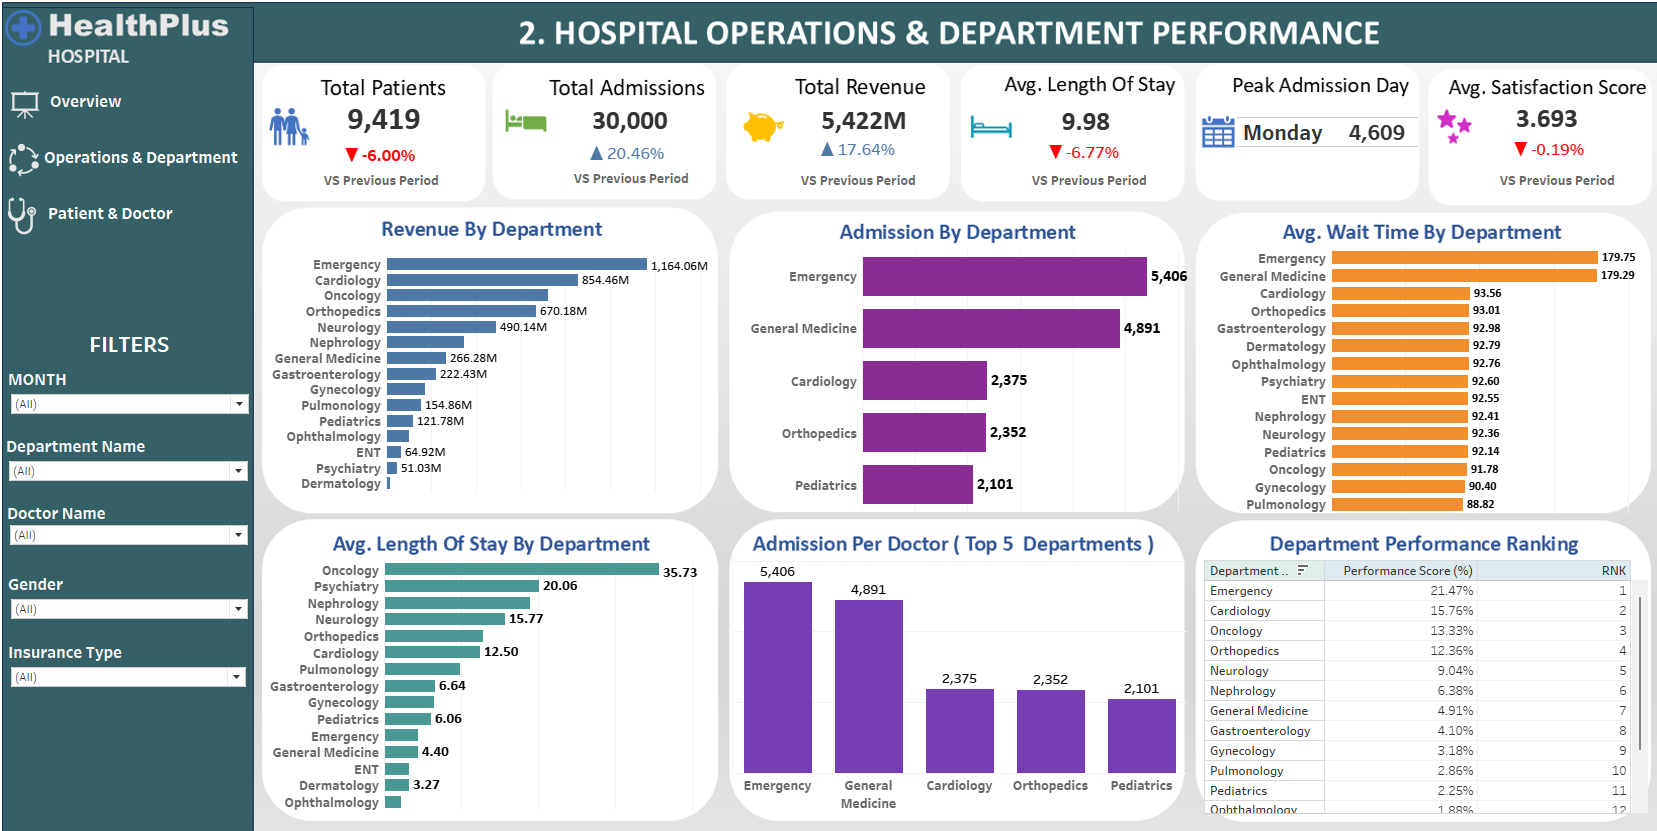

What the dashboard file says about the page in this screenshot:
{"tool":"tableau","page":{"name":"Operations & Department","canvas":[1709,856],"ordinal":1},"visuals":[{"type":"image","param":"Image/Presentation2.png","box":[8,8,1693,840]},{"type":"dashboard-object","box":[10,87,172,54]},{"type":"image","param":"Image/Picture1.svg","box":[16,100,38,36]},{"type":"worksheet","title":"Total Patients","mark":"Automatic","box":[329,109,129,46]},{"type":"worksheet","title":"Total Revenue","mark":"Automatic","box":[802,110,143,46]},{"type":"worksheet","title":"Avg Satisfaction Score","mark":"Automatic","box":[1467,111,180,74]},{"type":"worksheet","title":"Total Admissions","mark":"Automatic","box":[564,112,152,42]},{"type":"worksheet","title":"Avg Of Stay Days","mark":"Automatic","box":[1024,113,144,42]},{"type":"worksheet","title":"Peak Admission Day","mark":"Automatic","rows":["Calculation_416864450077765632"],"box":[1247,130,181,34]},{"type":"worksheet","title":"Avg Satisfaction Score Grwot","mark":"Automatic","box":[1483,136,152,52]},{"type":"worksheet","title":"Total Admission Growth","mark":"Automatic","box":[562,137,149,58]},{"type":"worksheet","title":"Revenue Growth","mark":"Automatic","box":[801,141,130,41]},{"type":"dashboard-object","box":[34,142,234,56]},{"type":"worksheet","title":"Patients Growth","mark":"Automatic","box":[333,147,113,41]},{"type":"worksheet","title":"Avg Of Stay Growth","mark":"Automatic","box":[1035,147,117,36]},{"type":"image","param":"Image/Picture2.svg","box":[11,148,44,50]},{"type":"text","box":[581,176,121,30]},{"type":"text","box":[331,178,121,30]},{"type":"text","box":[808,178,121,30]},{"type":"text","box":[1039,178,121,30]},{"type":"text","box":[1507,178,121,30]},{"type":"dashboard-object","box":[17,202,206,49]},{"type":"image","param":"Image/Picture3.svg","box":[12,209,40,41]},{"type":"worksheet","title":"Avg Wait Time By Dept","mark":"Automatic","rows":["Department_Name"],"cols":["Wait_Time_Minutes"],"box":[1221,262,442,264]},{"type":"worksheet","title":"Admission By Department","mark":"Automatic","rows":["Department_Name"],"cols":["Admission_ID"],"box":[752,263,464,261]},{"type":"worksheet","title":"Revenue By department","mark":"Automatic","rows":["Department_Name"],"cols":["Revenue"],"box":[276,269,460,235]},{"type":"text","box":[12,342,255,30]},{"type":"filter","title":"Total Patients","param":"[federated.0m1gyx91rqx2dw12bt20d0494kdl].[mn:Admission_Date:ok]","box":[18,381,244,51]},{"type":"filter","title":"Admission By Department","param":"[federated.0m1gyx91rqx2dw12bt20d0494kdl].[none:Department_Name:nk]","box":[16,448,245,52]},{"type":"filter","title":"Total Patients","param":"[federated.0m1gyx91rqx2dw12bt20d0494kdl].[none:Doctor_Name:nk]","box":[17,515,244,43]},{"type":"worksheet","title":"Admission Per Doctor","mark":"Automatic","rows":["Calculation_1036109399196372992"],"cols":["Department_Name"],"box":[742,567,455,259]},{"type":"worksheet","title":"Department Performance Ranking","mark":"Automatic","rows":["Department_Name"],"box":[1214,573,456,254]},{"type":"worksheet","title":"Avg Length Os Stay By Dept","mark":"Automatic","rows":["Department_Name"],"cols":["Length_of_Stay_Days"],"box":[274,574,452,249]},{"type":"filter","title":"Total Patients","param":"[federated.0m1gyx91rqx2dw12bt20d0494kdl].[none:Gender:nk]","box":[18,586,243,52]},{"type":"filter","title":"Total Patients","param":"[federated.0m1gyx91rqx2dw12bt20d0494kdl].[none:Insurance_Type:nk]","box":[18,654,241,55]}]}

Visuals, with their boxes in screenshot pixels (x1, y1, x2, y2), scaled from the page's 1709x856 canvas onto the 1657x831 screenshot:
image: x1=8 y1=8 x2=1649 y2=823
dashboard-object: x1=10 y1=84 x2=176 y2=137
image: x1=16 y1=97 x2=52 y2=132
"Total Patients" worksheet: x1=319 y1=106 x2=444 y2=150
"Total Revenue" worksheet: x1=778 y1=107 x2=916 y2=151
"Avg Satisfaction Score" worksheet: x1=1422 y1=108 x2=1597 y2=180
"Total Admissions" worksheet: x1=547 y1=109 x2=694 y2=150
"Avg Of Stay Days" worksheet: x1=993 y1=110 x2=1132 y2=150
"Peak Admission Day" worksheet: x1=1209 y1=126 x2=1385 y2=159
"Avg Satisfaction Score Grwot" worksheet: x1=1438 y1=132 x2=1585 y2=183
"Total Admission Growth" worksheet: x1=545 y1=133 x2=689 y2=189
"Revenue Growth" worksheet: x1=777 y1=137 x2=903 y2=177
dashboard-object: x1=33 y1=138 x2=260 y2=192
"Patients Growth" worksheet: x1=323 y1=143 x2=432 y2=183
"Avg Of Stay Growth" worksheet: x1=1004 y1=143 x2=1117 y2=178
image: x1=11 y1=144 x2=53 y2=192
text: x1=563 y1=171 x2=681 y2=200
text: x1=321 y1=173 x2=438 y2=202
text: x1=783 y1=173 x2=901 y2=202
text: x1=1007 y1=173 x2=1125 y2=202
text: x1=1461 y1=173 x2=1578 y2=202
dashboard-object: x1=16 y1=196 x2=216 y2=244
image: x1=12 y1=203 x2=50 y2=243
"Avg Wait Time By Dept" worksheet: x1=1184 y1=254 x2=1612 y2=511
"Admission By Department" worksheet: x1=729 y1=255 x2=1179 y2=509
"Revenue By department" worksheet: x1=268 y1=261 x2=714 y2=489
text: x1=12 y1=332 x2=259 y2=361
"Total Patients" filter: x1=17 y1=370 x2=254 y2=419
"Admission By Department" filter: x1=16 y1=435 x2=253 y2=485
"Total Patients" filter: x1=16 y1=500 x2=253 y2=542
"Admission Per Doctor" worksheet: x1=719 y1=550 x2=1161 y2=802
"Department Performance Ranking" worksheet: x1=1177 y1=556 x2=1619 y2=803
"Avg Length Os Stay By Dept" worksheet: x1=266 y1=557 x2=704 y2=799
"Total Patients" filter: x1=17 y1=569 x2=253 y2=619
"Total Patients" filter: x1=17 y1=635 x2=251 y2=688
